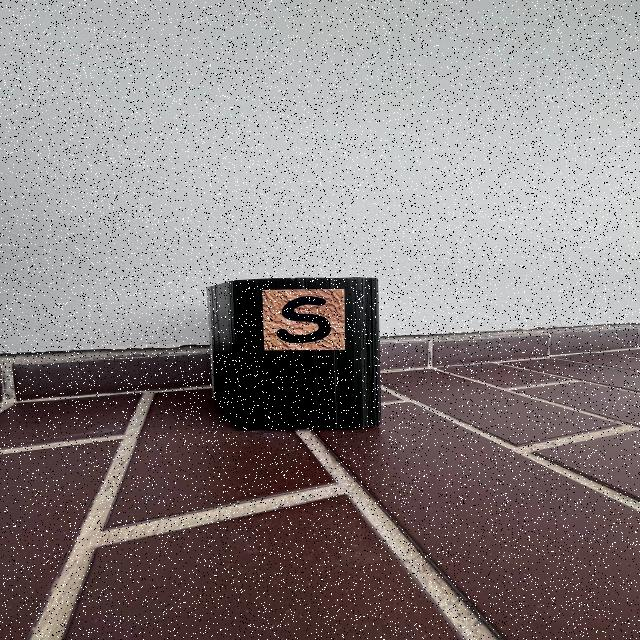S_id28: (262, 289, 346, 351)
